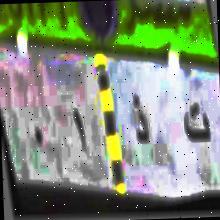0: (30, 114, 48, 160)
1: (71, 102, 88, 157)
taa: (180, 96, 212, 151)
zaal: (126, 90, 152, 160)
